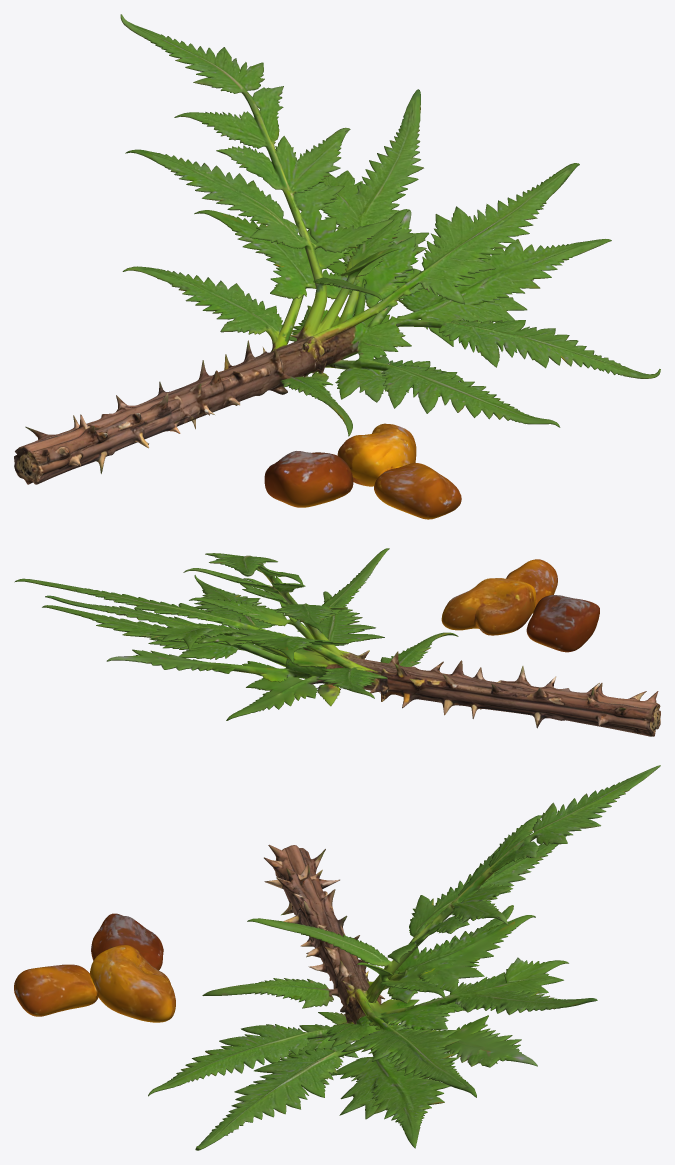
The model's file is xuejie.glb.
The picture shows the model from 3 angles, top to bottom: view 1: azimuth 30°, elevation 25°; view 2: azimuth 150°, elevation 25°; view 3: azimuth 270°, elevation 25°; orthographic projection. The views are drawn at different scales.
Parts seen in each view (by area): view 1: node_0; view 2: node_0; view 3: node_0.
Boxes of the visible parts, x1,y1,x2,y2 form: node_0: [14, 14, 660, 519]; node_0: [14, 548, 660, 736]; node_0: [14, 765, 660, 1150].
Size of the model in its own units: 1.11 by 0.4328 by 0.9945.
1 material, 1 textured.
